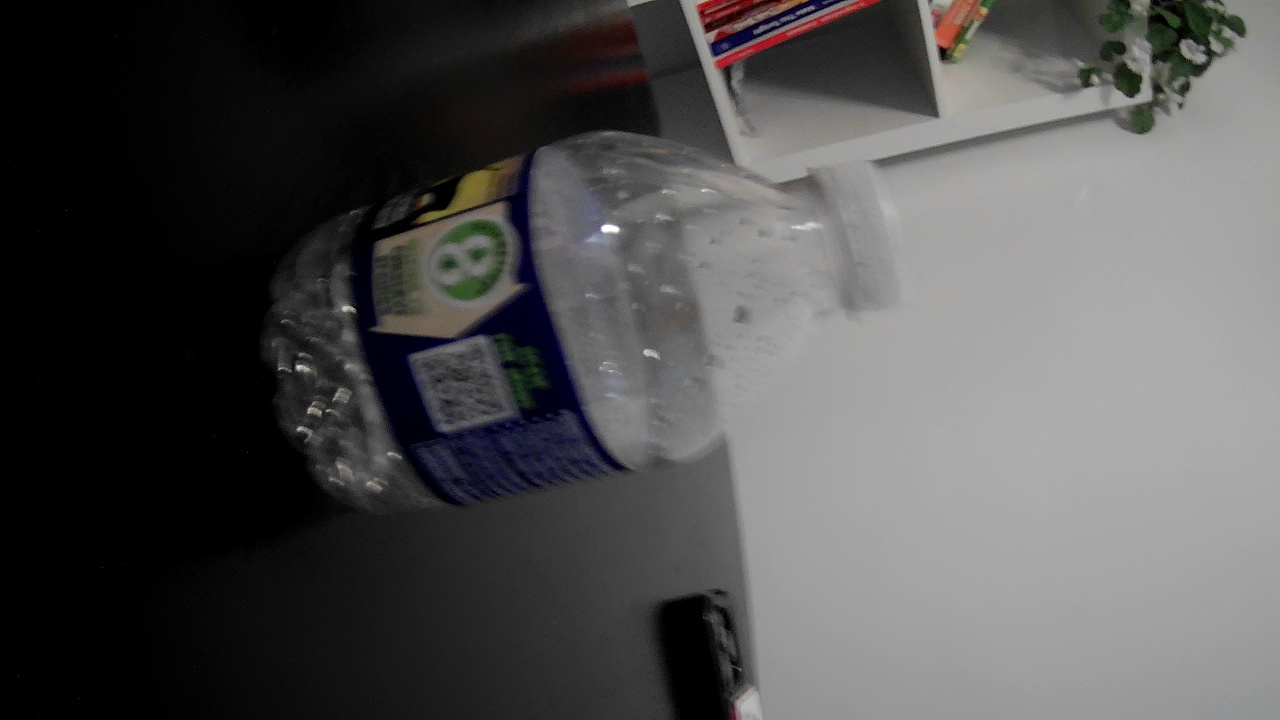trash: (235, 65, 1012, 556)
